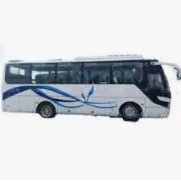bus: (0, 48, 174, 123)
